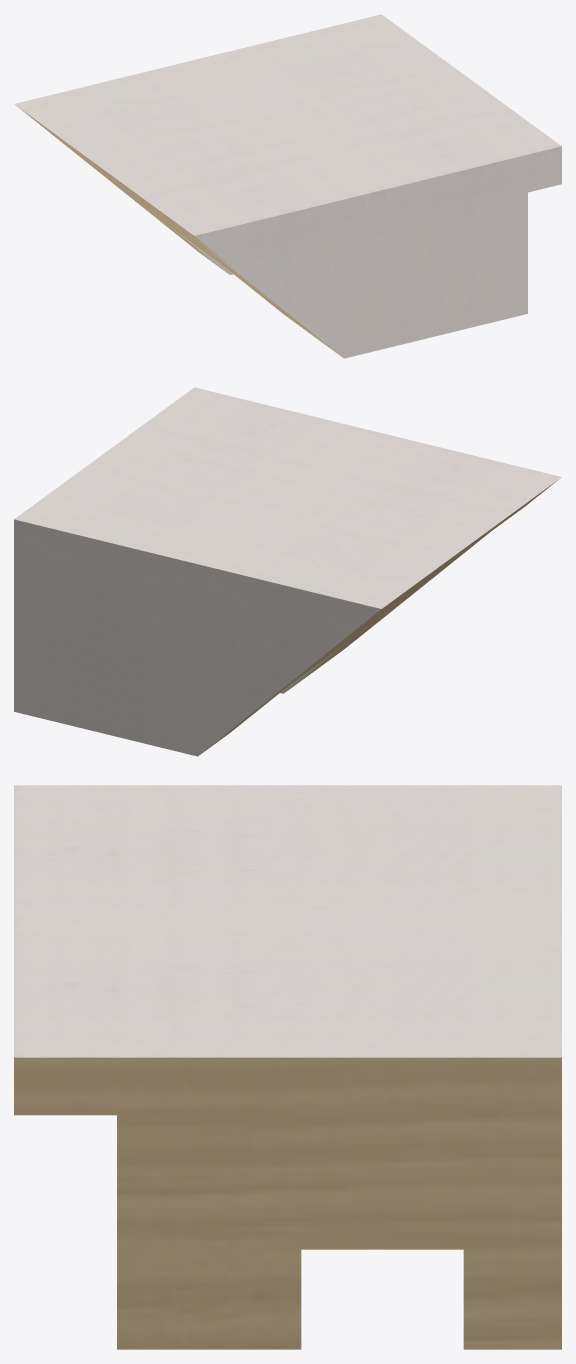
The picture shows the model from 3 angles, top to bottom: view 1: azimuth 30°, elevation 25°; view 2: azimuth 150°, elevation 25°; view 3: azimuth 270°, elevation 25°; orthographic projection. The views are drawn at different scales.
Parts seen in each view (by area): view 1: middle, first; view 2: middle, first; view 3: middle, first.
Boxes of the visible parts, x1=… form: middle: x1=198, y1=14, x2=561, y2=358; first: x1=14, y1=59, x2=378, y2=358; middle: x1=14, y1=387, x2=377, y2=756; first: x1=197, y1=432, x2=561, y2=756; middle: x1=14, y1=921, x2=561, y2=1349; first: x1=14, y1=785, x2=561, y2=921.
Size of the model in its own units: 0.04 by 0.02 by 0.034.
Materials: 2 (2 with a texture image).
